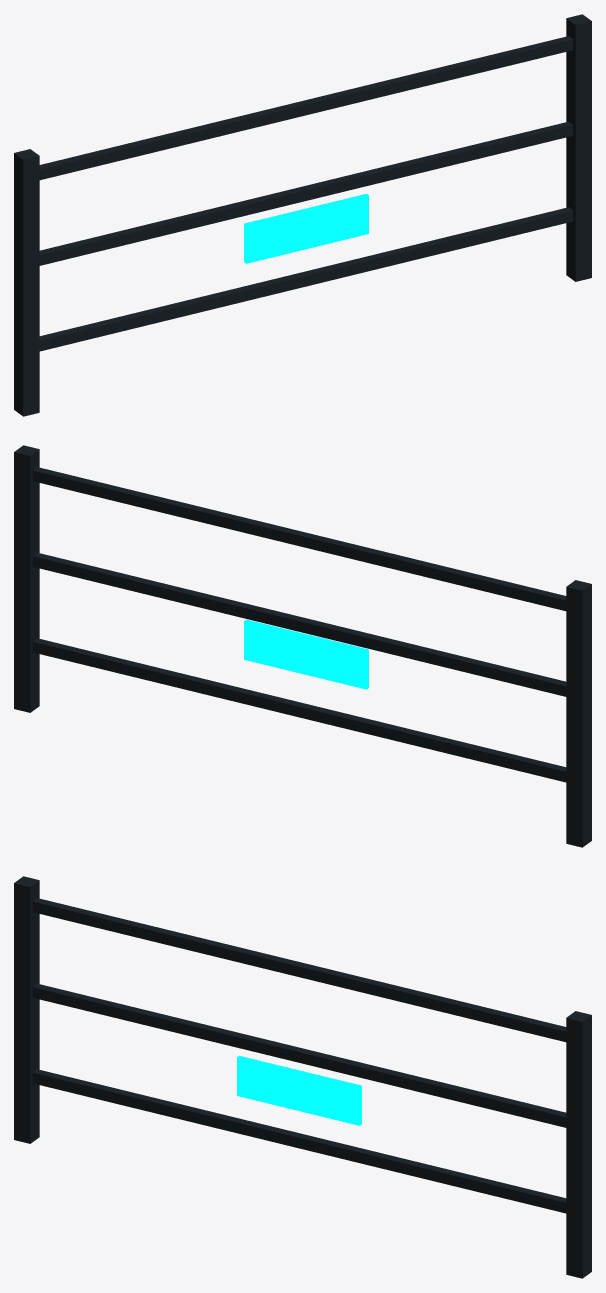
File: baranda_modulo.glb
The picture shows the model from 3 angles, top to bottom: view 1: azimuth 30°, elevation 25°; view 2: azimuth 150°, elevation 25°; view 3: azimuth 330°, elevation 25°; orthographic projection.
Visible parts, largest first — view 1: baranda_modulo; view 2: baranda_modulo; view 3: baranda_modulo.
Part boxes in pixels (box(x1,y1,x2,y2)): baranda_modulo: box(14, 14, 591, 416); baranda_modulo: box(14, 445, 591, 847); baranda_modulo: box(14, 876, 591, 1278).
Bounding box in the file's own units: 2.78 × 1.2 × 0.08.
